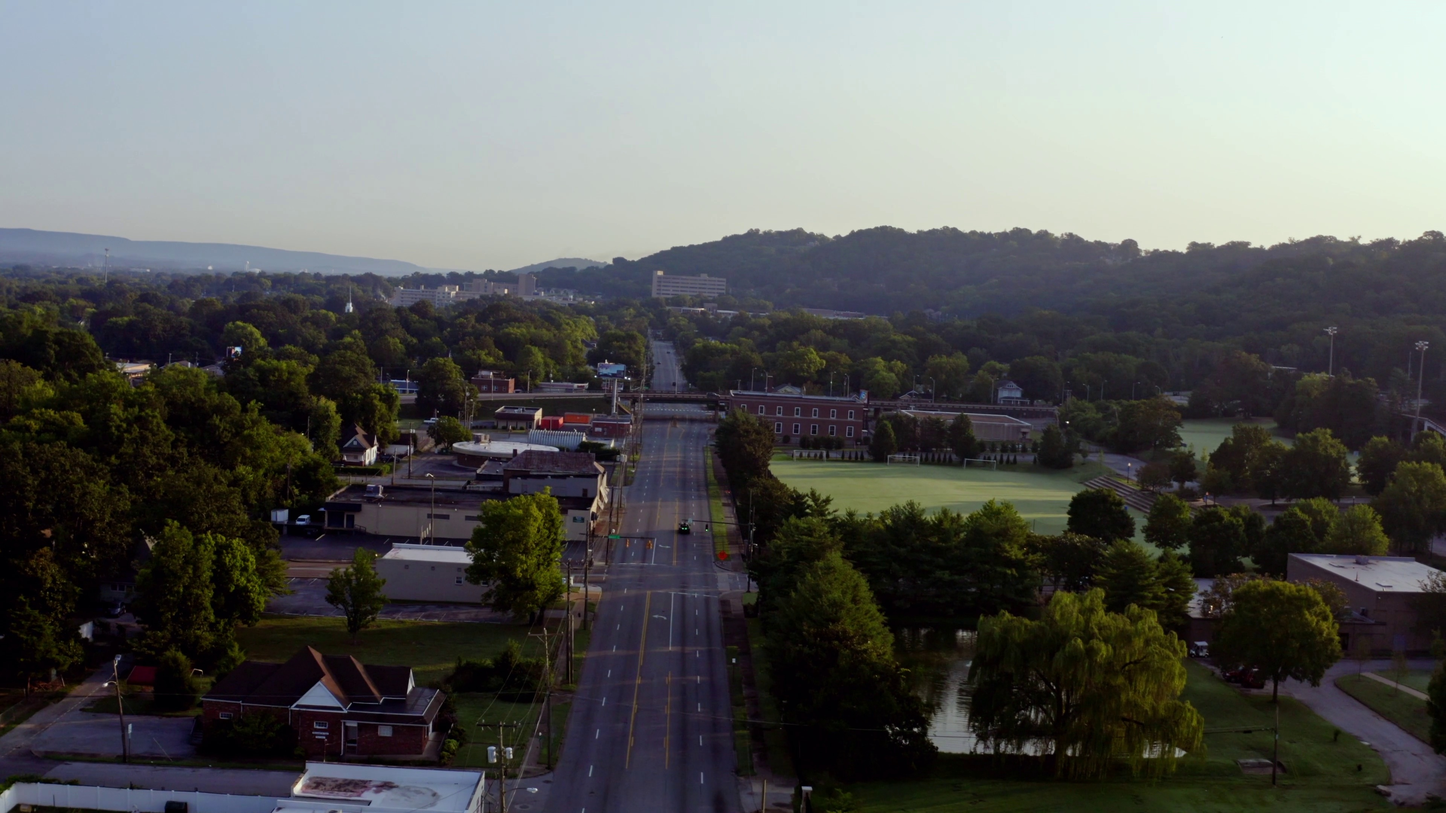Vehicle: (1223, 666, 1259, 683), (380, 454, 401, 463), (296, 515, 311, 525), (678, 522, 690, 534), (706, 393, 720, 399), (656, 363, 660, 364)
